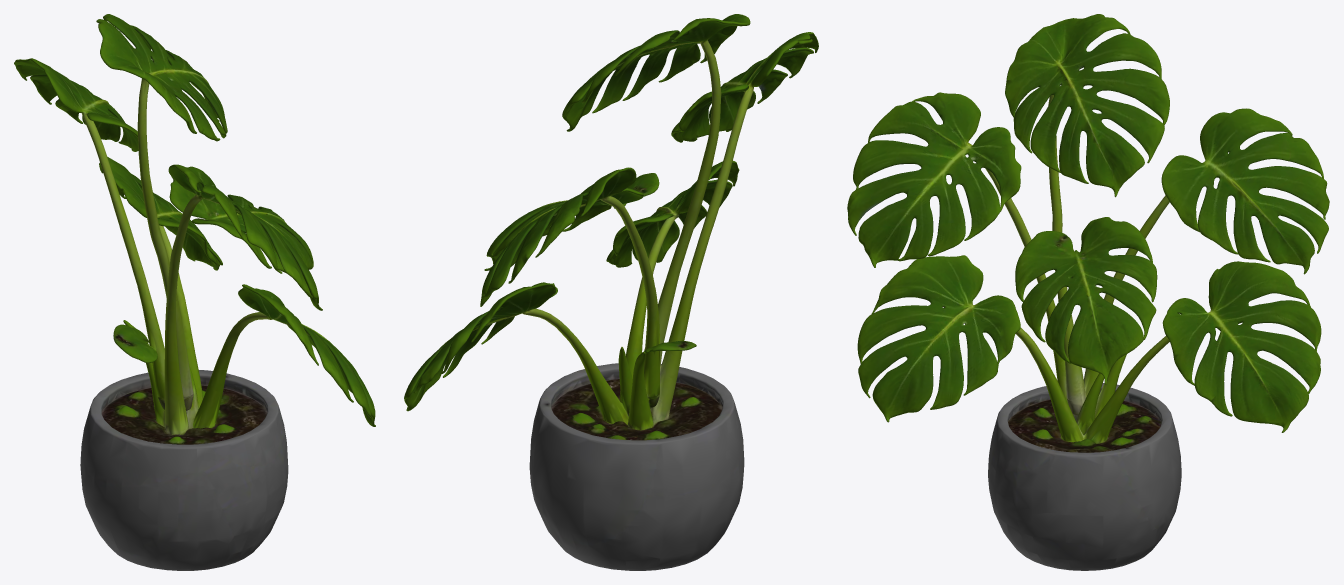
Rendered from plant.glb.
3 views of the same model, side by side, from view 1: azimuth 30°, elevation 25°; view 2: azimuth 150°, elevation 25°; view 3: azimuth 270°, elevation 25° (orthographic). The views are drawn at different scales.
Visible parts, largest first — view 1: tripo_node_64f806da-5aea-4119-b438-335aa3c18bd2; view 2: tripo_node_64f806da-5aea-4119-b438-335aa3c18bd2; view 3: tripo_node_64f806da-5aea-4119-b438-335aa3c18bd2.
Boxes of the visible parts, x1,y1,x2,y2 form: tripo_node_64f806da-5aea-4119-b438-335aa3c18bd2: [14, 14, 375, 570]; tripo_node_64f806da-5aea-4119-b438-335aa3c18bd2: [404, 14, 818, 570]; tripo_node_64f806da-5aea-4119-b438-335aa3c18bd2: [847, 14, 1329, 570].
Bounding box in the file's own units: 0.4566 × 0.9999 × 0.8879.
1 material, 1 textured.
